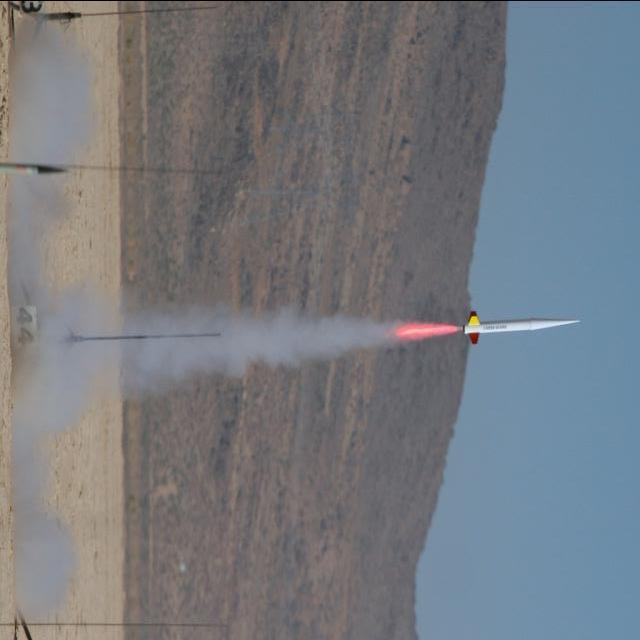missile: (457, 307, 586, 357)
